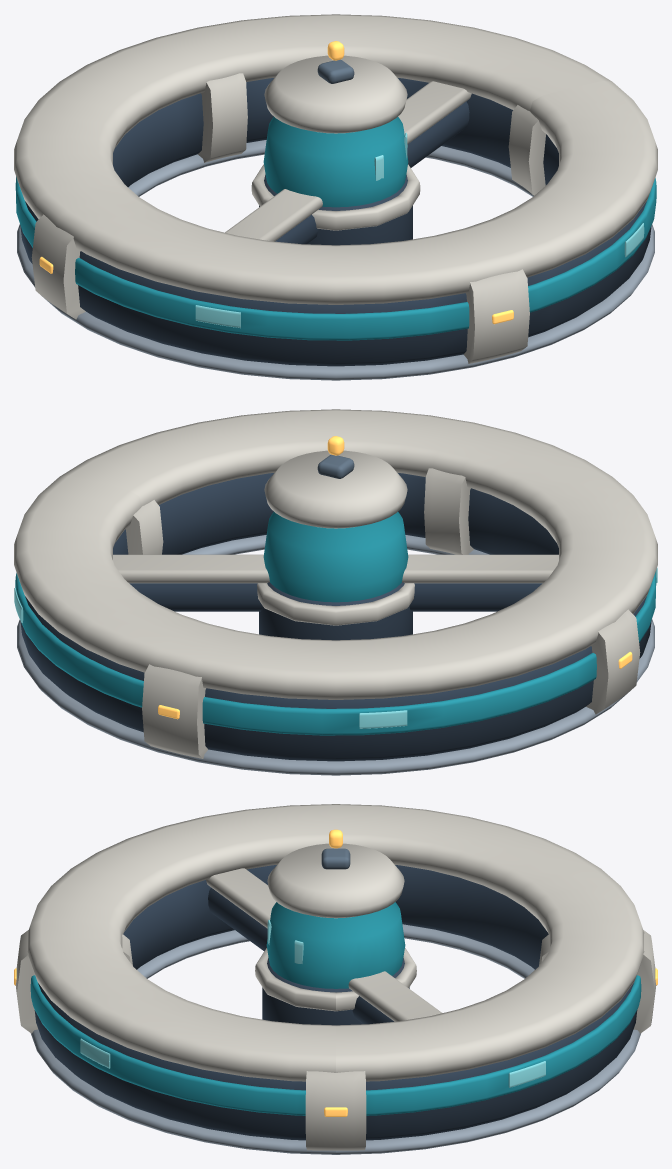
Rendered from colony_ring_lv1.glb.
The picture shows the model from 3 angles, top to bottom: view 1: azimuth 30°, elevation 25°; view 2: azimuth 150°, elevation 25°; view 3: azimuth 270°, elevation 25°; orthographic projection. The views are drawn at different scales.
Visible parts, largest first — view 1: Structure; view 2: Structure; view 3: Structure.
Boxes of the visible parts, x1,y1,x2,y2 form: Structure: (14,14,657,380); Structure: (14,409,657,775); Structure: (14,804,657,1154).
Size of the model in its own units: 8.12 by 3.07 by 8.12.
